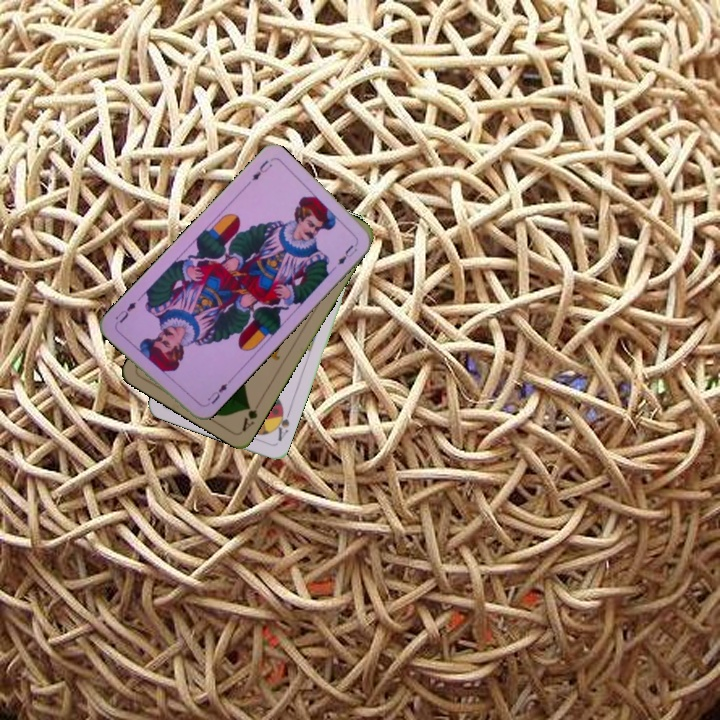EU: (199, 377, 231, 410), (248, 156, 275, 183)
GA: (238, 400, 260, 434)
SA: (270, 404, 293, 444)
